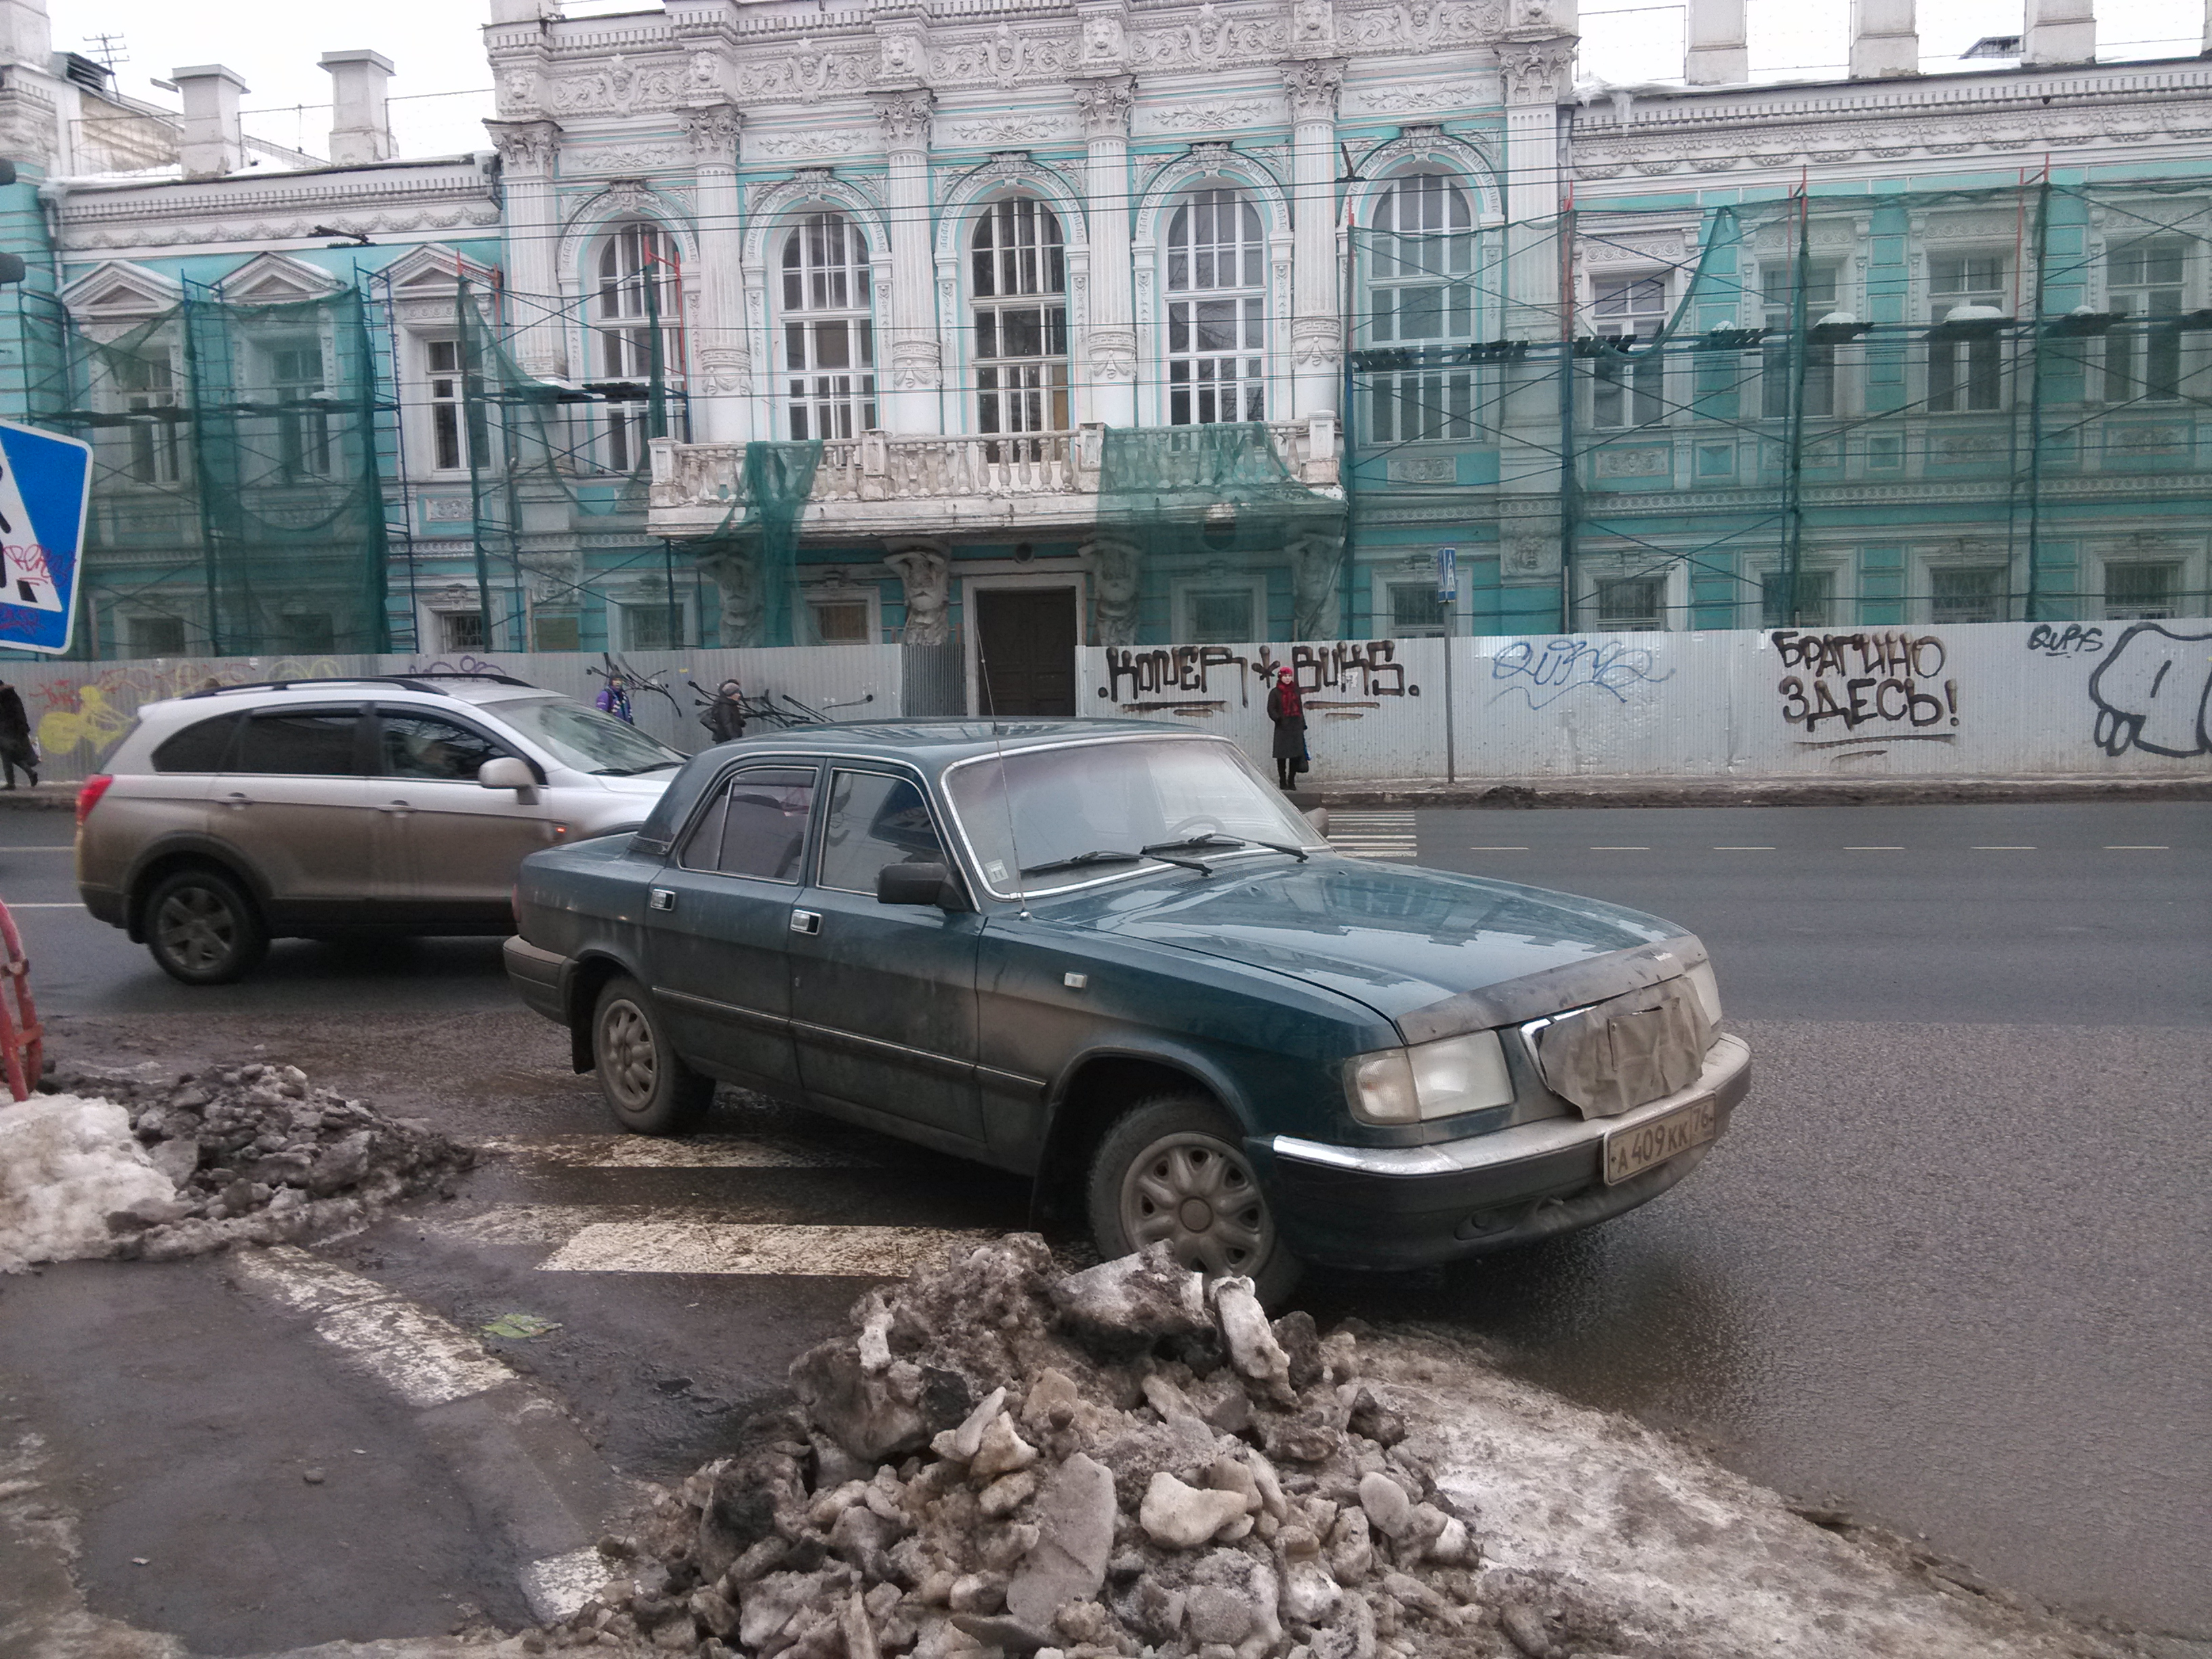car license plate: (1597, 1097, 1729, 1189)
